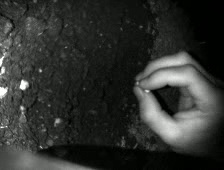corn: (18, 77, 31, 93), (143, 86, 152, 94), (134, 79, 142, 88)
